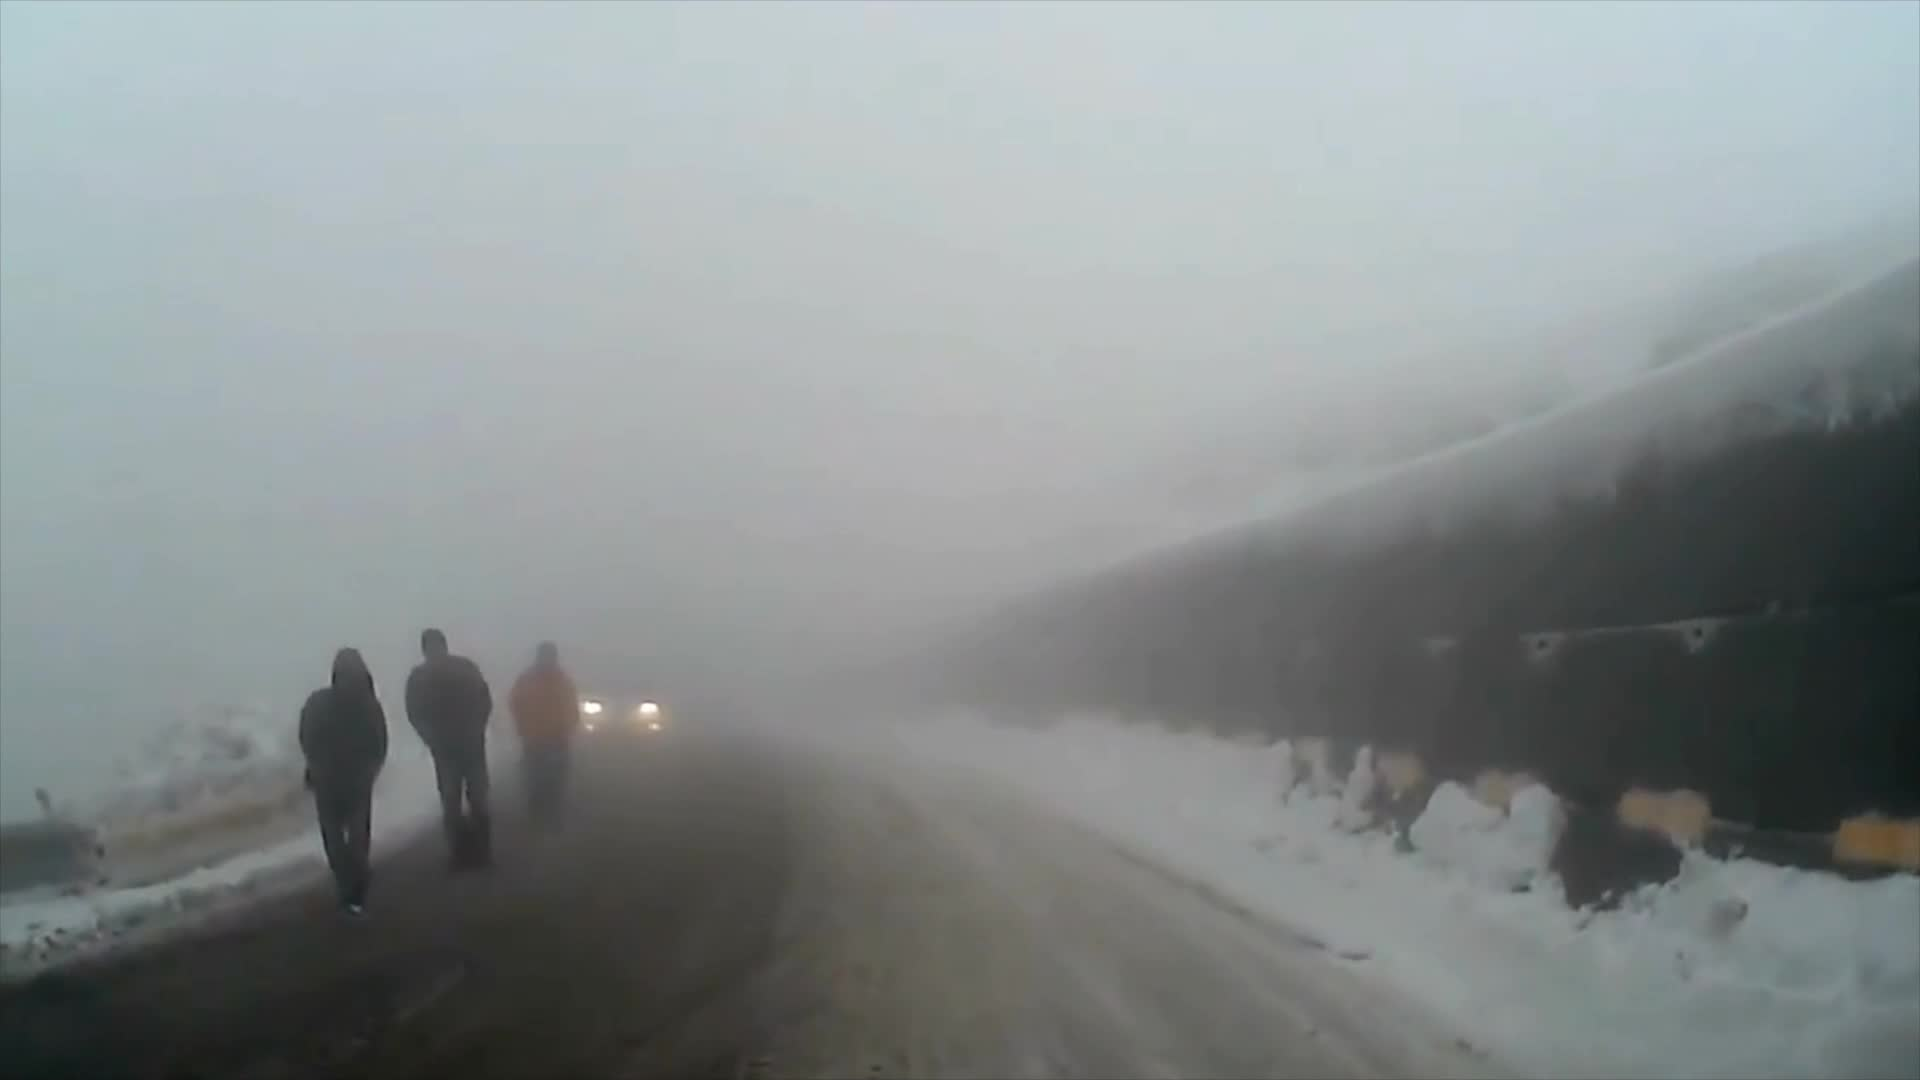pedestrian: (304, 644, 395, 911), (403, 635, 494, 872), (507, 640, 580, 836)
vehicle: (574, 677, 670, 759)
